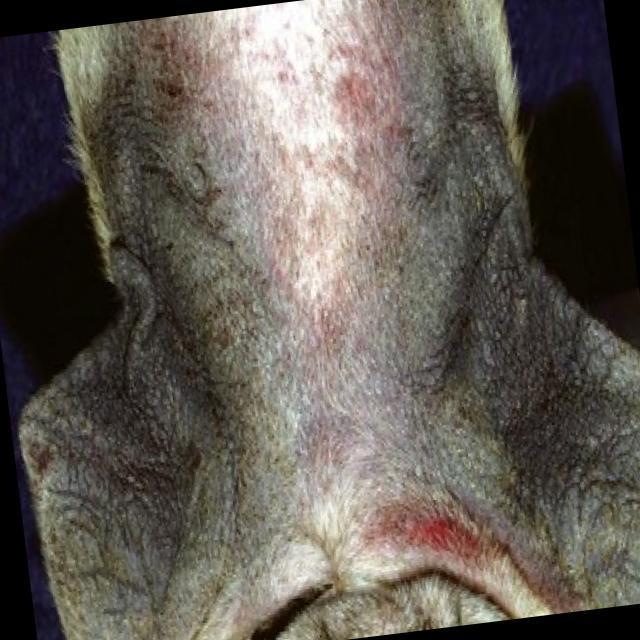allergic dermatitis: (191, 25, 308, 254), (324, 6, 403, 243), (277, 262, 355, 404)
